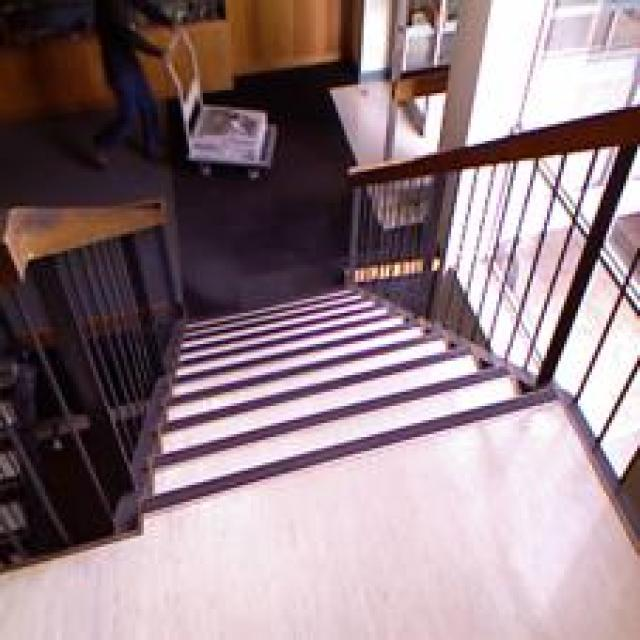stair: (147, 284, 558, 516)
